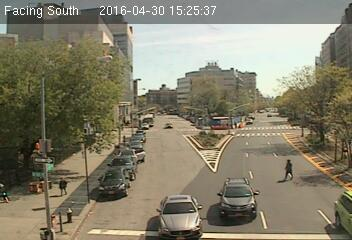neg: (168, 171, 188, 198), (188, 117, 200, 134), (212, 192, 224, 208), (142, 134, 153, 149), (212, 149, 223, 163), (277, 96, 287, 110), (227, 102, 237, 115), (115, 65, 125, 78)
pos: (277, 155, 299, 184), (53, 175, 71, 198)
